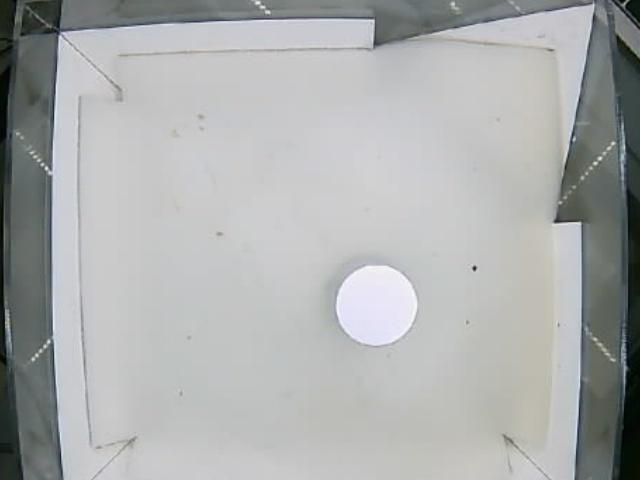Bottle: (334, 264, 419, 348)
